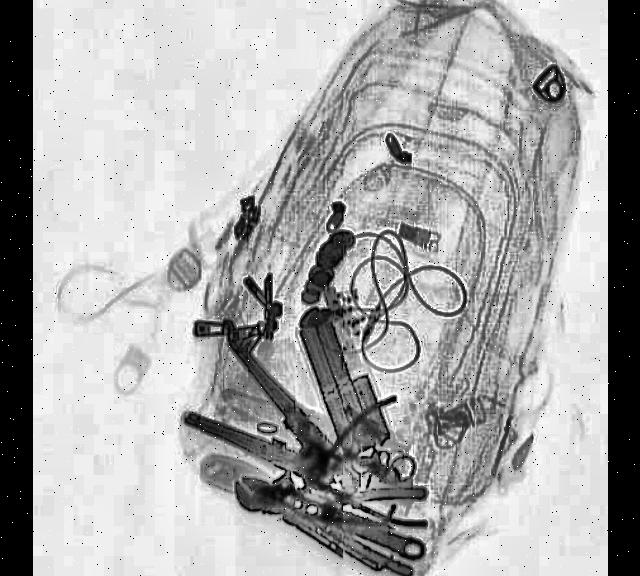Pliers: (176, 328, 354, 522), (274, 387, 426, 555)
Wrench: (227, 466, 427, 570)
